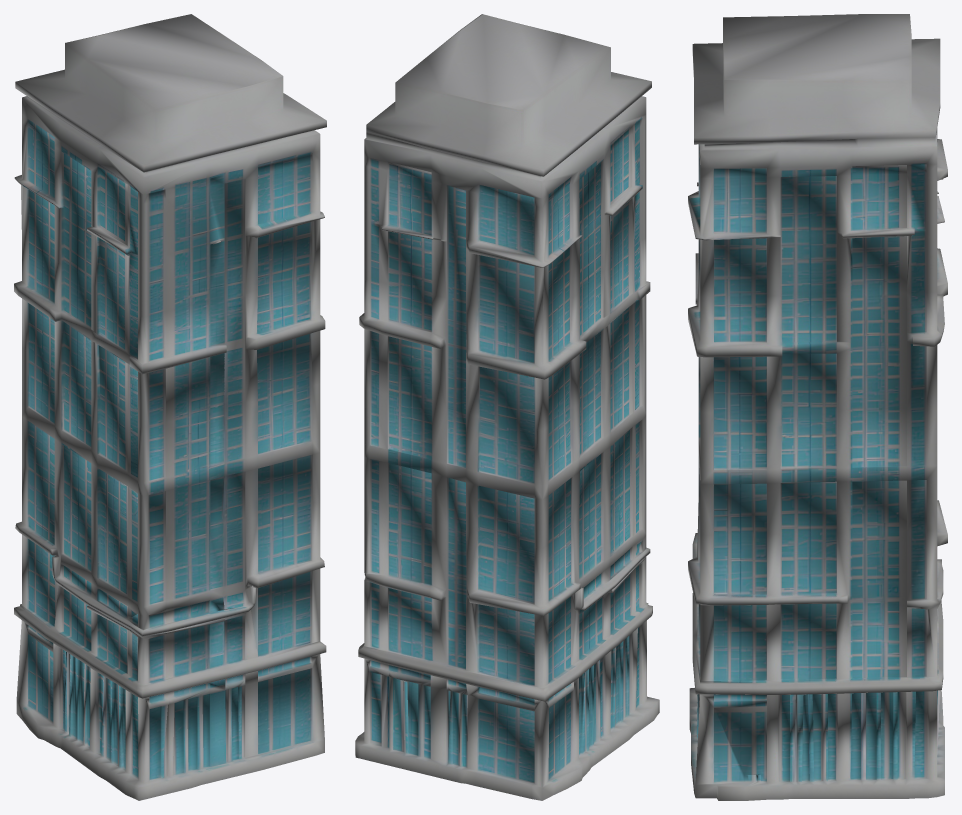
The model's file is building-tower.glb.
The picture shows the model from 3 angles, left to right: view 1: azimuth 30°, elevation 25°; view 2: azimuth 150°, elevation 25°; view 3: azimuth 270°, elevation 25°; orthographic projection. The views are drawn at different scales.
Visible parts, largest first — view 1: tripo_node_kodyurd-model-7_____________________; view 2: tripo_node_kodyurd-model-7_____________________; view 3: tripo_node_kodyurd-model-7_____________________.
Part boxes in pixels (<box>): tripo_node_kodyurd-model-7_____________________: <box>14,14,326,800</box>; tripo_node_kodyurd-model-7_____________________: <box>355,14,659,800</box>; tripo_node_kodyurd-model-7_____________________: <box>688,14,947,800</box>.
Size of the model in its own units: 0.3184 by 0.998 by 0.334.
1 material, 1 textured.
